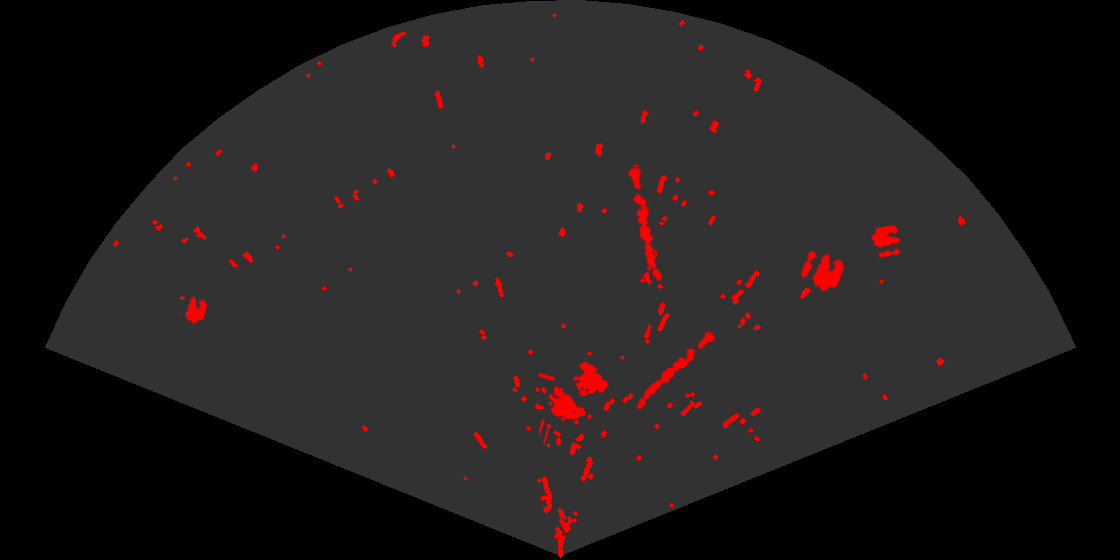ball: (799, 249, 846, 293), (870, 224, 902, 259), (176, 294, 209, 325)
cage: (539, 360, 610, 444)
chain: (635, 330, 717, 411), (626, 165, 664, 283)
